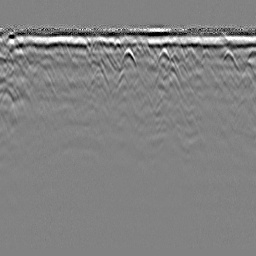cavity: (120, 42, 137, 70)
